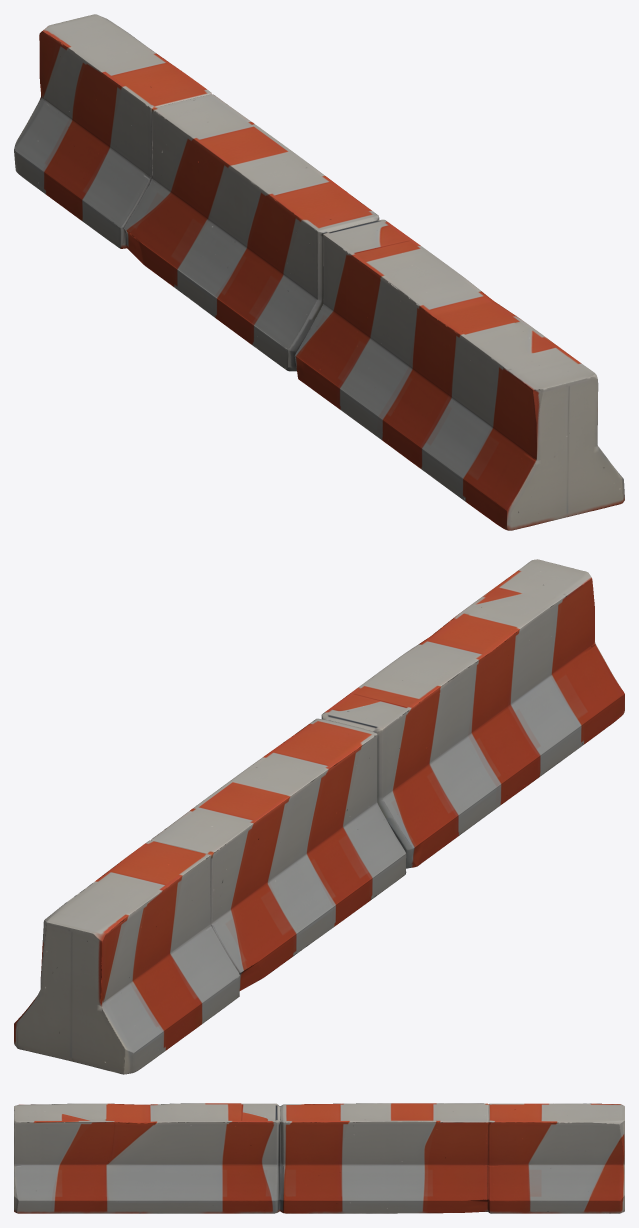
Rendered from barrier.glb.
3 views of the same model, one above another, from view 1: azimuth 30°, elevation 25°; view 2: azimuth 150°, elevation 25°; view 3: azimuth 270°, elevation 25° (orthographic). The views are drawn at different scales.
Parts seen in each view (by area): view 1: node_0; view 2: node_0; view 3: node_0.
Part boxes in pixels (<box>): node_0: <box>14,14,624,530</box>; node_0: <box>14,559,624,1074</box>; node_0: <box>14,1103,624,1213</box>.
Size of the model in its own units: 0.1656 by 0.1769 by 1.18.
1 material, 1 textured.
